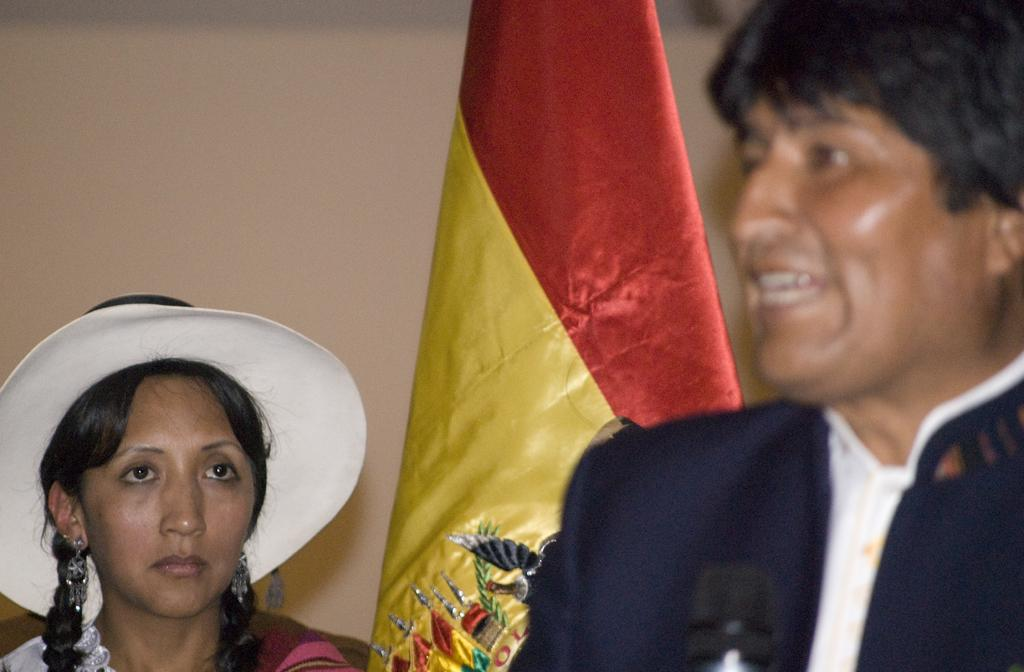Hat: (0, 288, 369, 617)
